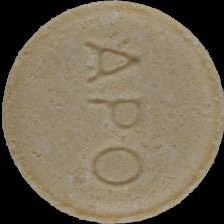60505-2850: (0, 0, 224, 224)
